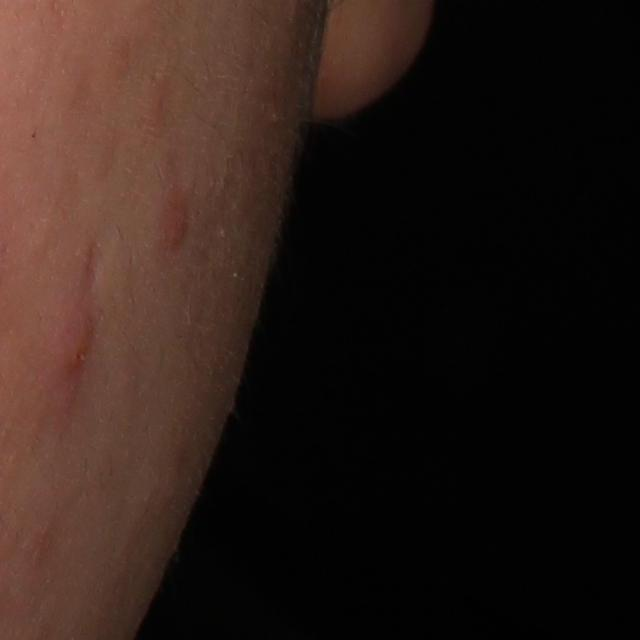atrophic_scar: (78, 236, 103, 289)
papule: (42, 303, 104, 399), (156, 190, 195, 247)
